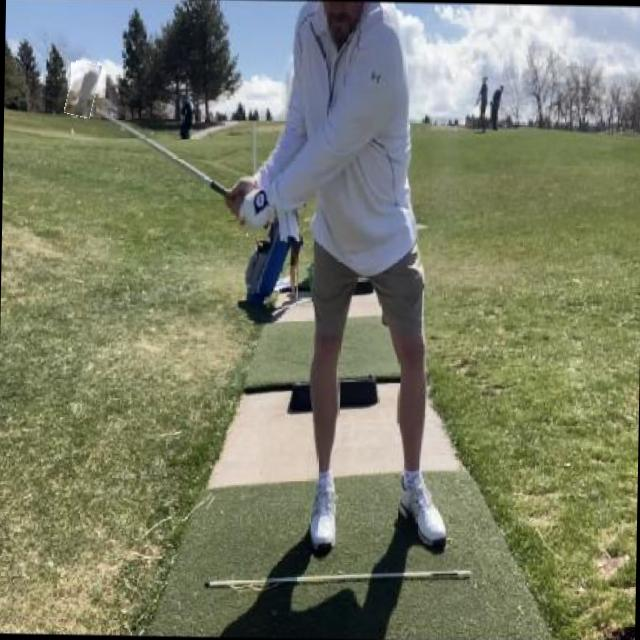club head: (66, 61, 100, 118)
